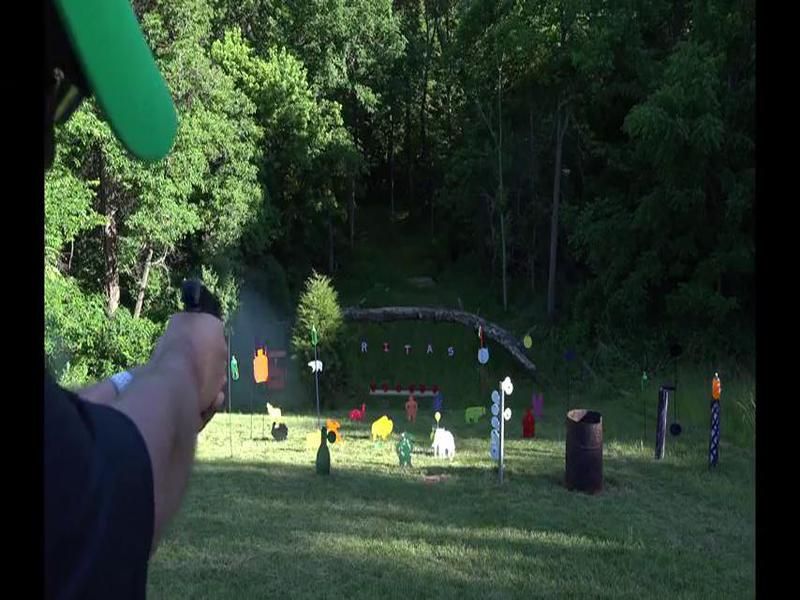Pistola: (172, 264, 259, 362)
